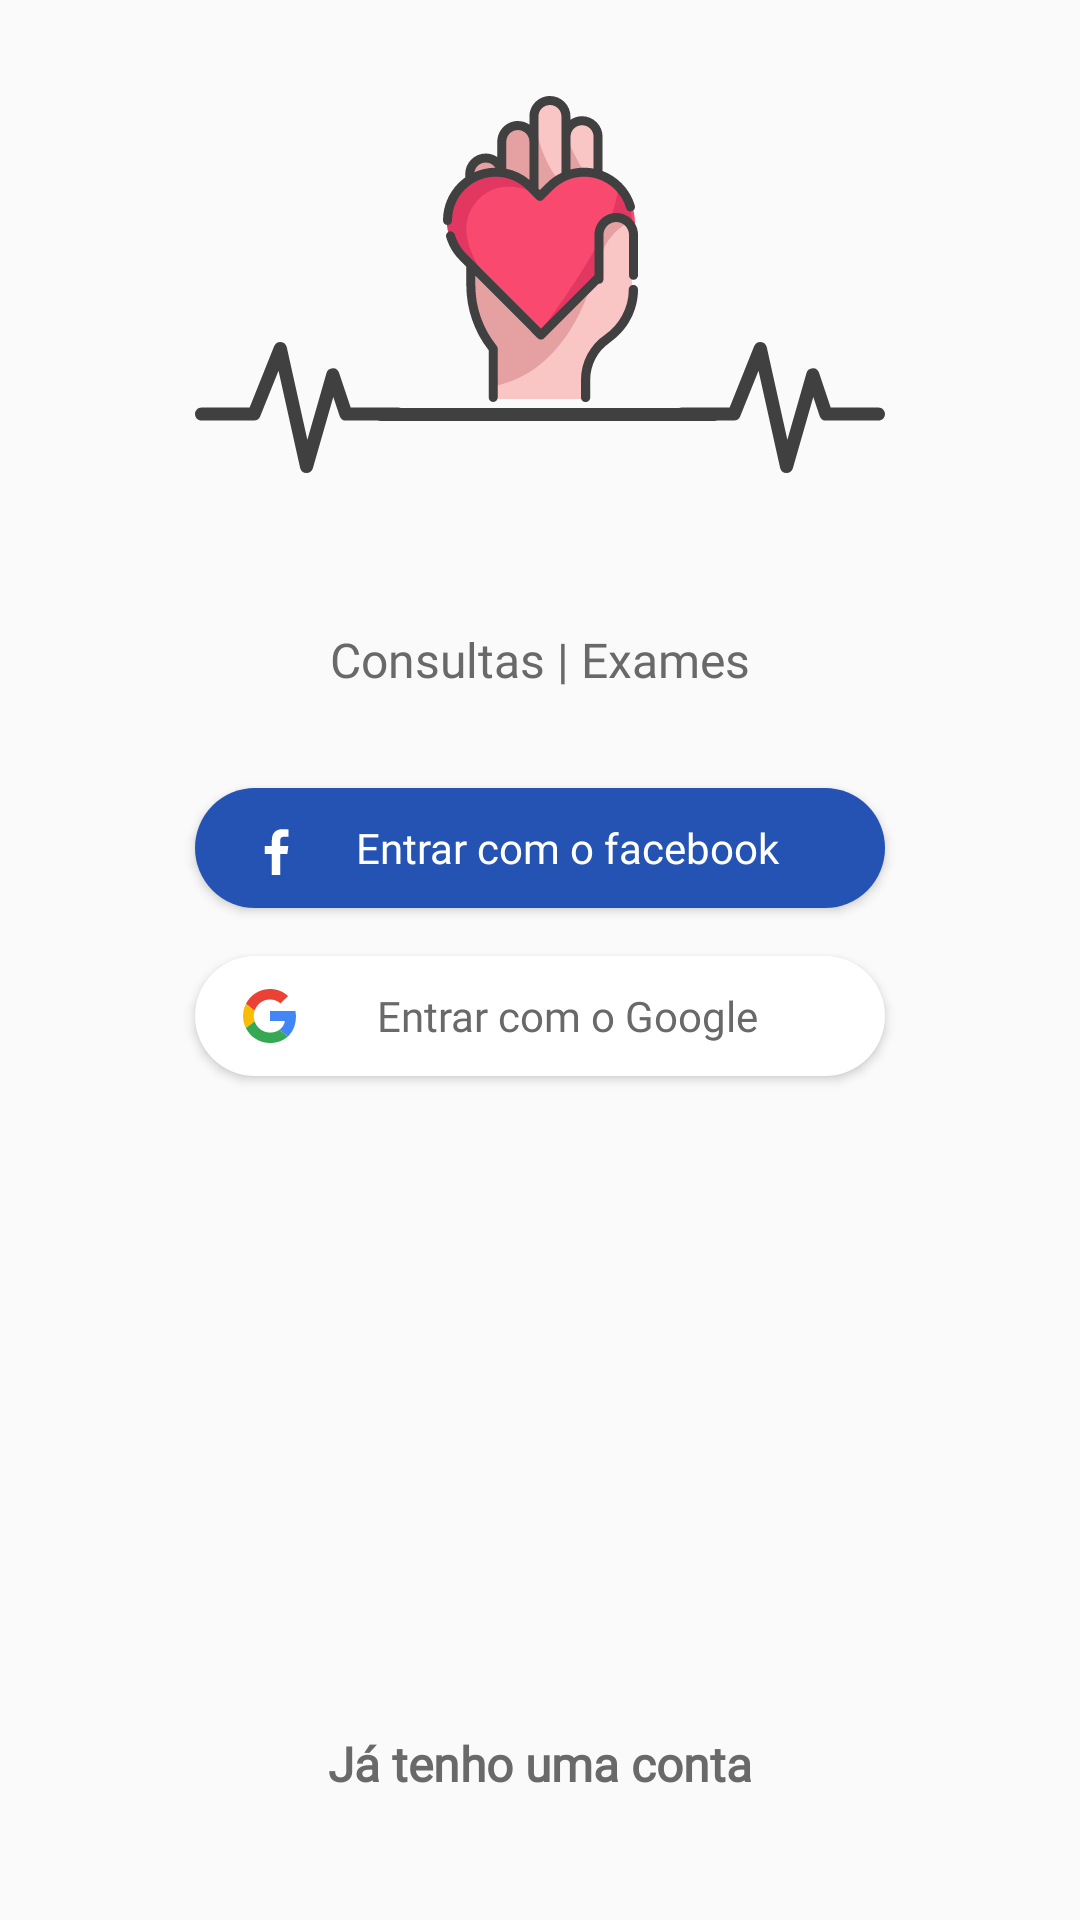

Icons on this 1080*1920 Android screen, each with the point to tap as point (x, y):
heart: point (540, 249)
